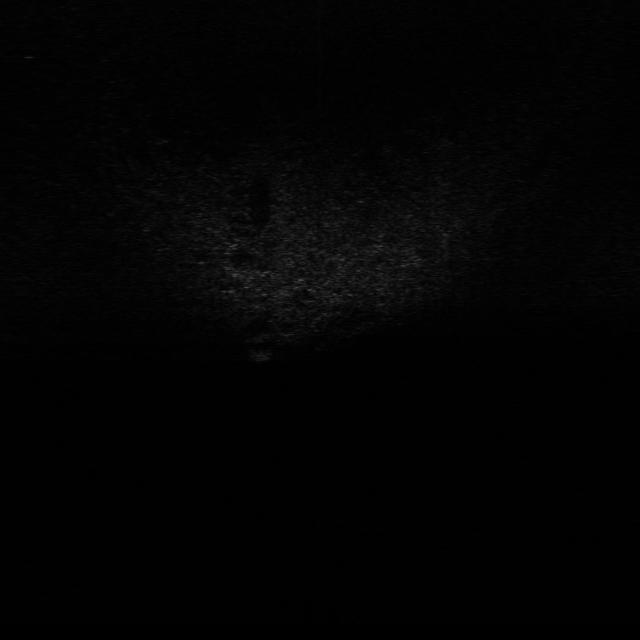cube: (244, 342, 277, 365)
